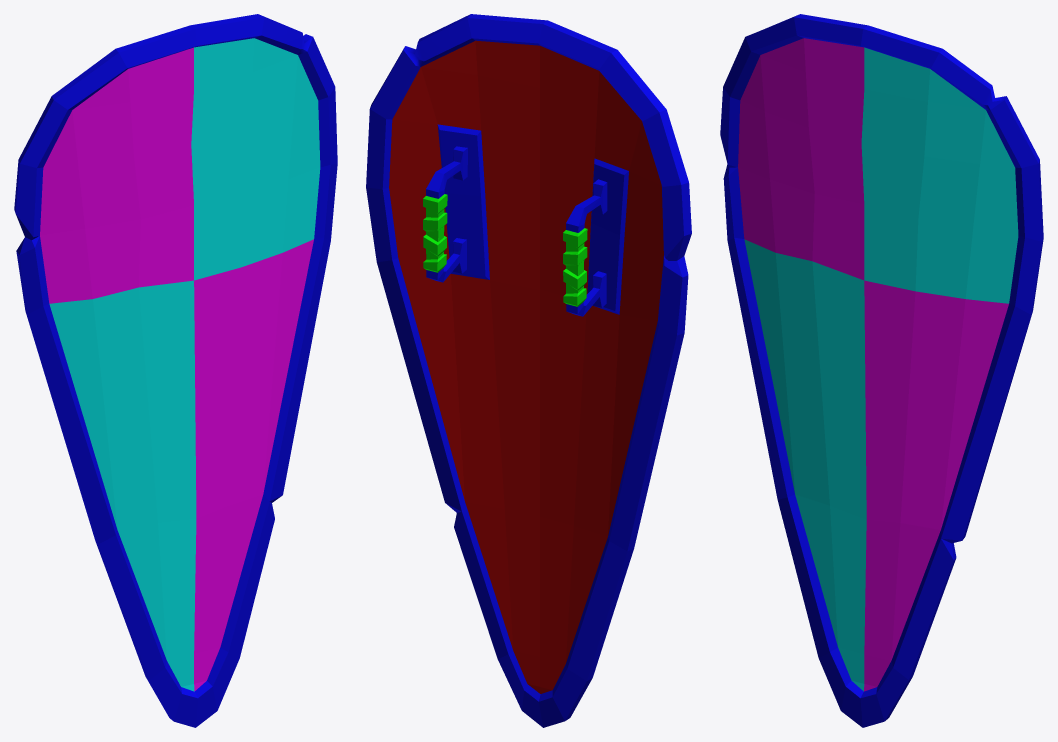
The model's file is Shield_Uncommon_Heraldic_03.fbx.
The picture shows the model from 3 angles, left to right: view 1: azimuth 30°, elevation 25°; view 2: azimuth 150°, elevation 25°; view 3: azimuth 330°, elevation 25°; orthographic projection.
Parts seen in each view (by area): view 1: SM_Wep_Shield_Long_10; view 2: SM_Wep_Shield_Long_10; view 3: SM_Wep_Shield_Long_10.
Boxes of the visible parts, left/top/right/bottom form: SM_Wep_Shield_Long_10: left=14, top=14, right=337, bottom=727; SM_Wep_Shield_Long_10: left=366, top=14, right=691, bottom=727; SM_Wep_Shield_Long_10: left=720, top=14, right=1043, bottom=727.
Size of the model in its own units: 63.33 by 131 by 16.3.
